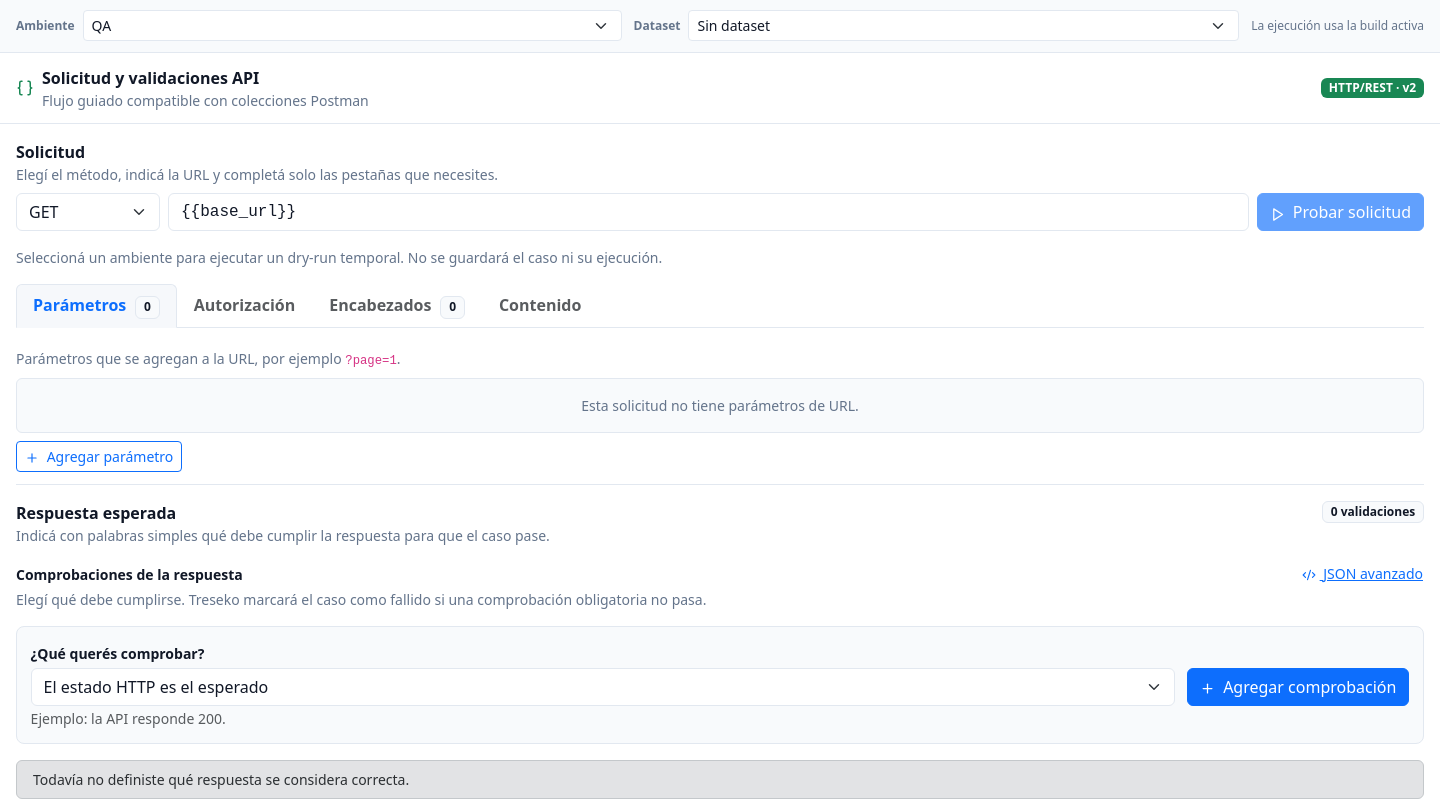
Test: CaseApiCard › ofrece headers frecuentes y conserva la opción de agregar uno personalizado
Click the tab "Encabezados 0" at (397, 306), box [312, 284, 482, 328]
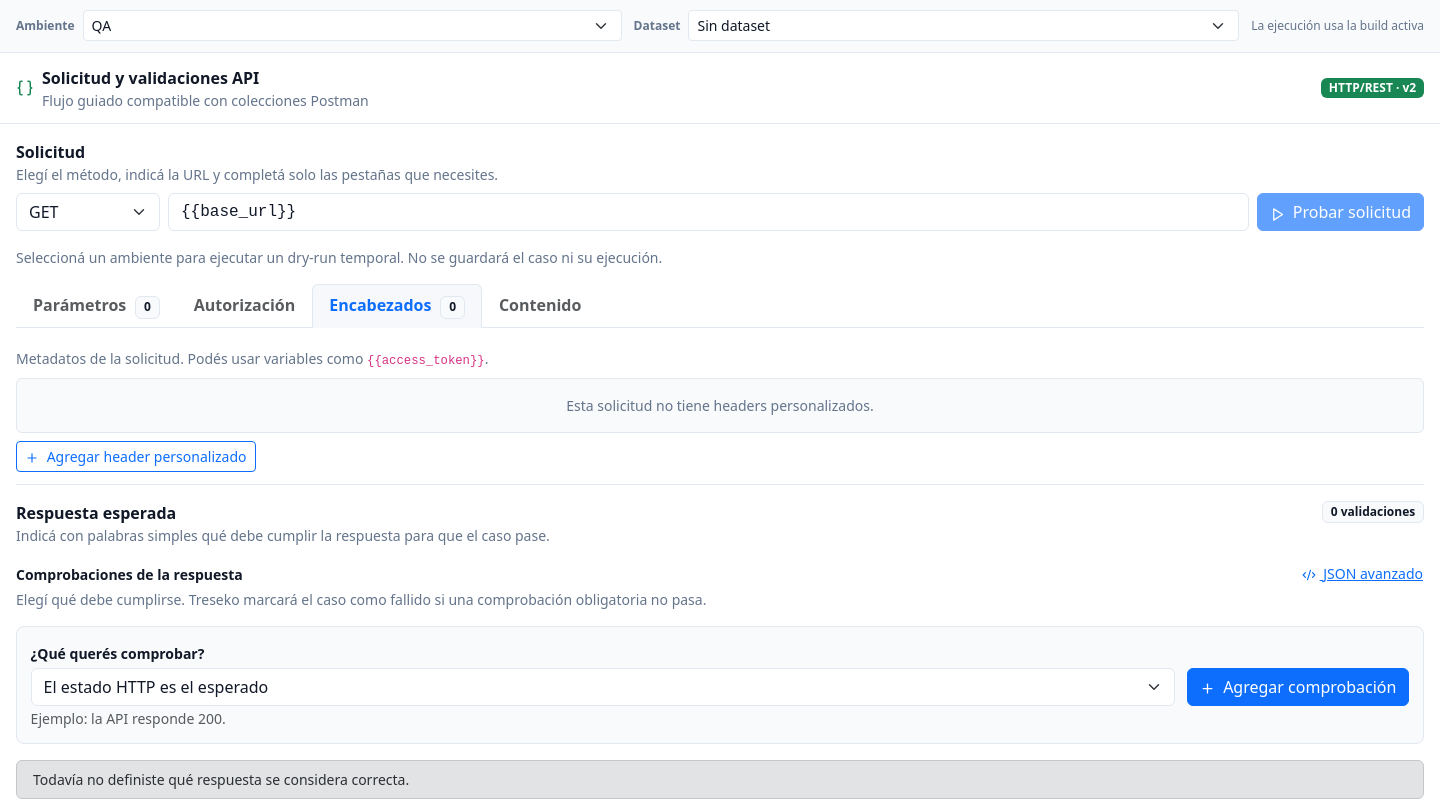
Now the button "Agregar header personalizado" is shown, box [16, 441, 256, 472]
